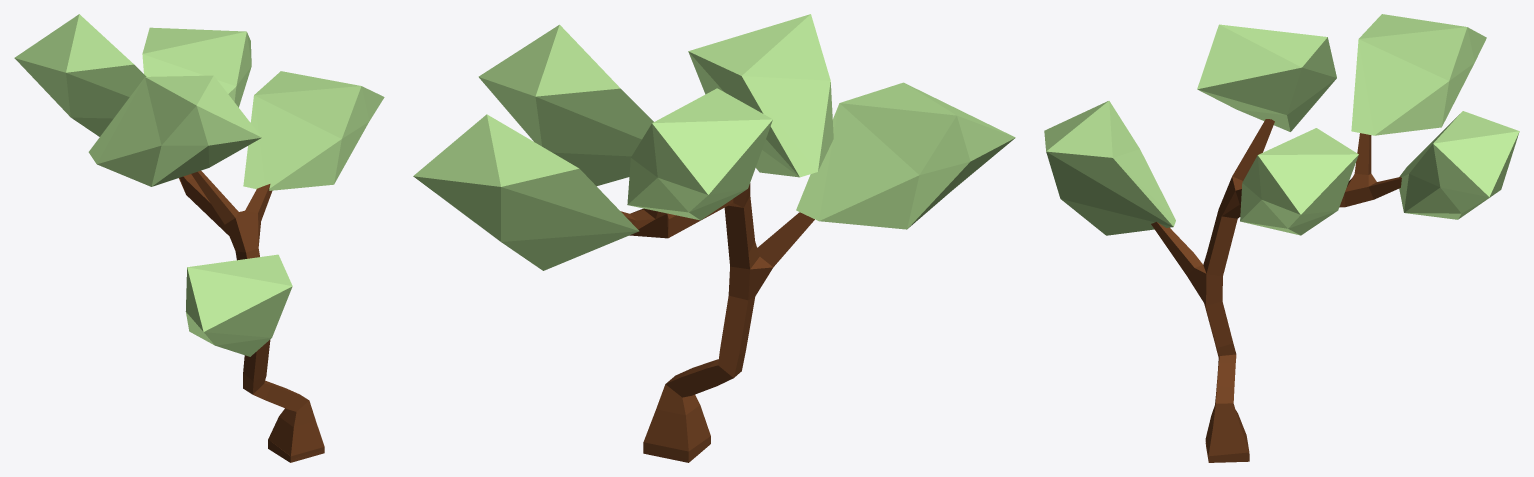
Rendered from Tree.fbx.
3 views of the same model, side by side, from view 1: azimuth 30°, elevation 25°; view 2: azimuth 150°, elevation 25°; view 3: azimuth 270°, elevation 25° (orthographic). The views are drawn at different scales.
Parts seen in each view (by area): view 1: Leaf3, Leaf2, Leaf5, Leaf1, Log, Leaf4; view 2: Leaf1, Leaf4, Leaf2, Leaf3, Leaf5, Log; view 3: Leaf5, Leaf1, Leaf3, Log, Leaf2, Leaf4.
Part boxes in pixels (left/top/right/bottom): Leaf3: left=88, top=75, right=261, bottom=186; Leaf2: left=243, top=71, right=384, bottom=190; Leaf5: left=14, top=14, right=146, bottom=136; Leaf1: left=185, top=254, right=292, bottom=356; Log: left=179, top=170, right=324, bottom=456; Leaf4: left=142, top=27, right=251, bottom=107; Leaf1: left=796, top=82, right=1015, bottom=229; Leaf4: left=413, top=114, right=639, bottom=270; Leaf2: left=478, top=24, right=653, bottom=186; Leaf3: left=688, top=14, right=833, bottom=177; Leaf5: left=627, top=88, right=772, bottom=220; Log: left=620, top=183, right=814, bottom=451; Leaf5: left=1351, top=14, right=1486, bottom=135; Leaf1: left=1044, top=101, right=1175, bottom=235; Leaf3: left=1197, top=24, right=1336, bottom=131; Log: left=1151, top=119, right=1401, bottom=456; Leaf2: left=1240, top=128, right=1358, bottom=235; Leaf4: left=1399, top=111, right=1519, bottom=219.
Size of the model in its own units: 1076 by 1249 by 1423.
